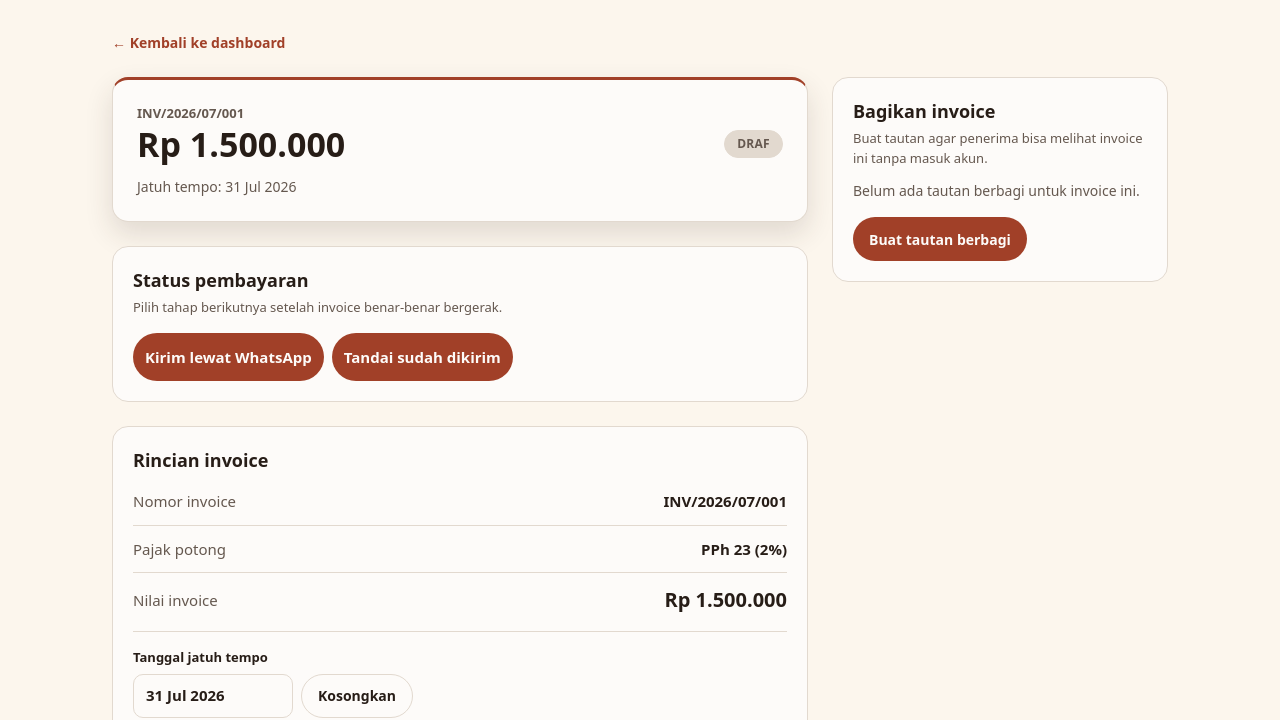
InvoiceDetailClient › Bagikan invoice › creates a link, shows the full absolute URL, and offers a copy control with success feedback
This screenshot has width=1280, height=720.
Click the button "Buat tautan berbagi".
click(940, 239)  # box [853,217,1027,261]
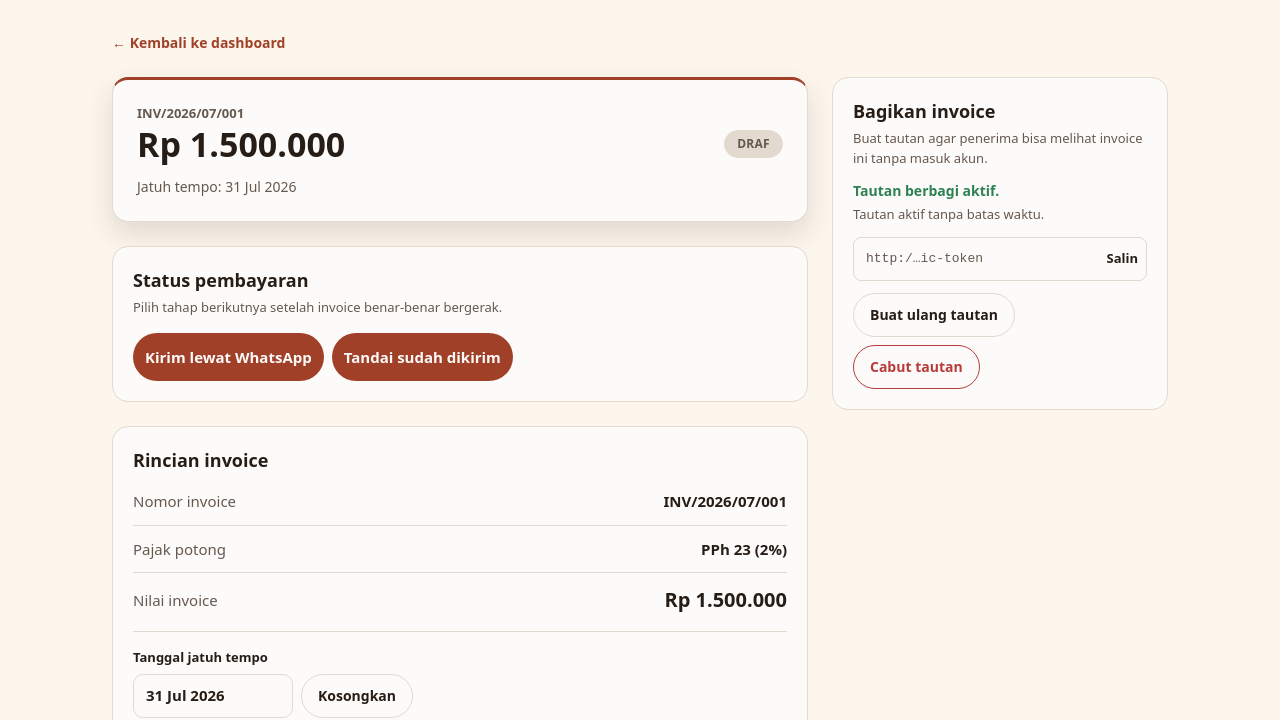
Click the button with aria-label "salin tautan".
click(1122, 258)  # box [1098,236,1146,280]
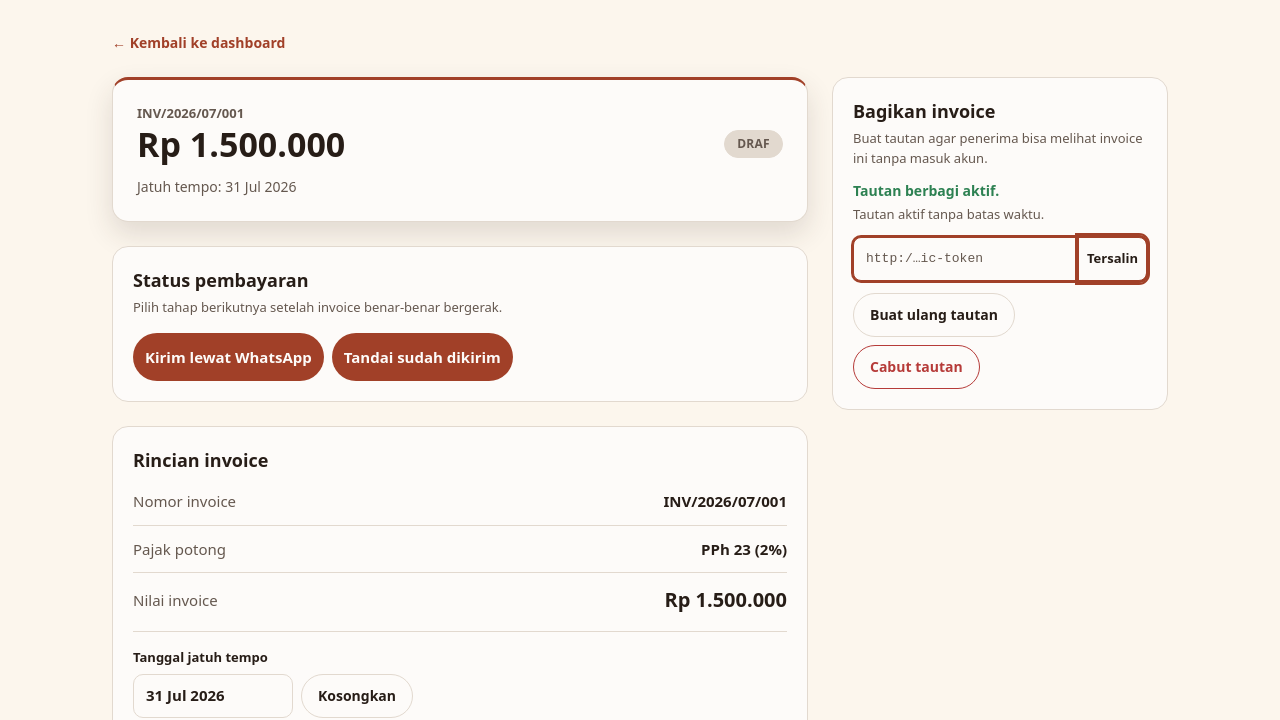
Check: the button "Tersalin" is shown, box [1079,236,1146,280]
